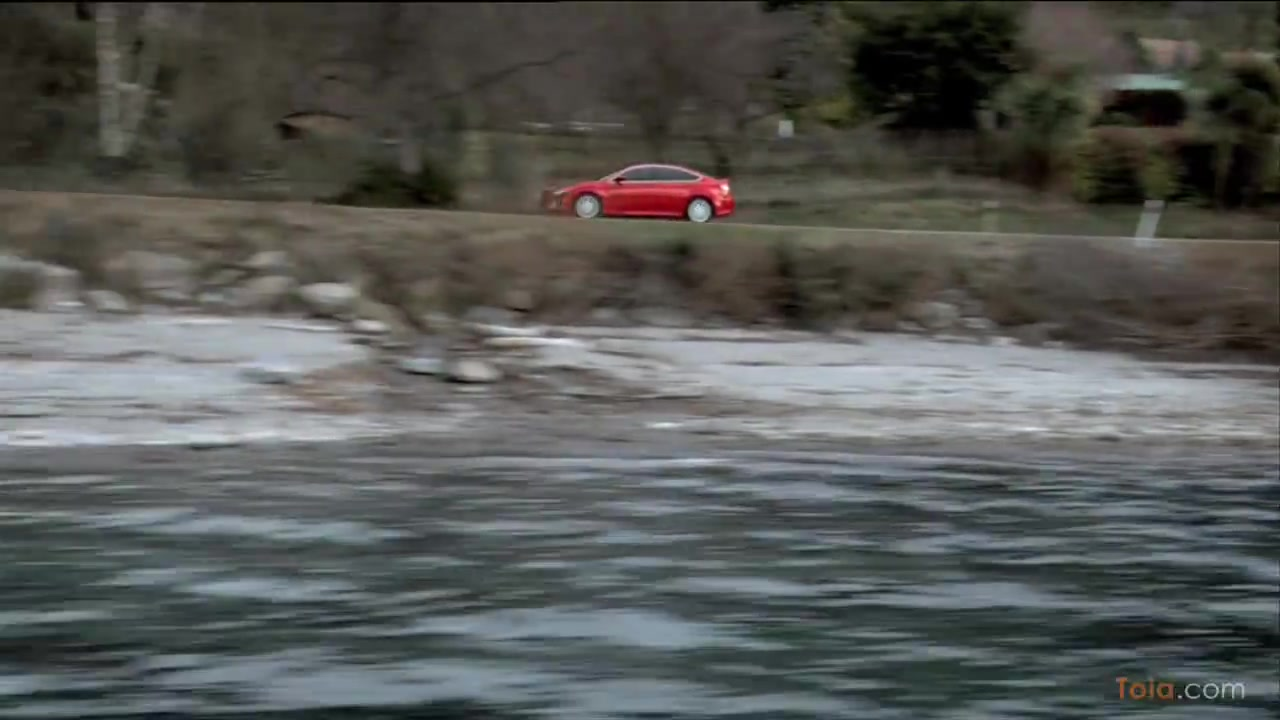car: (539, 157, 736, 227)
